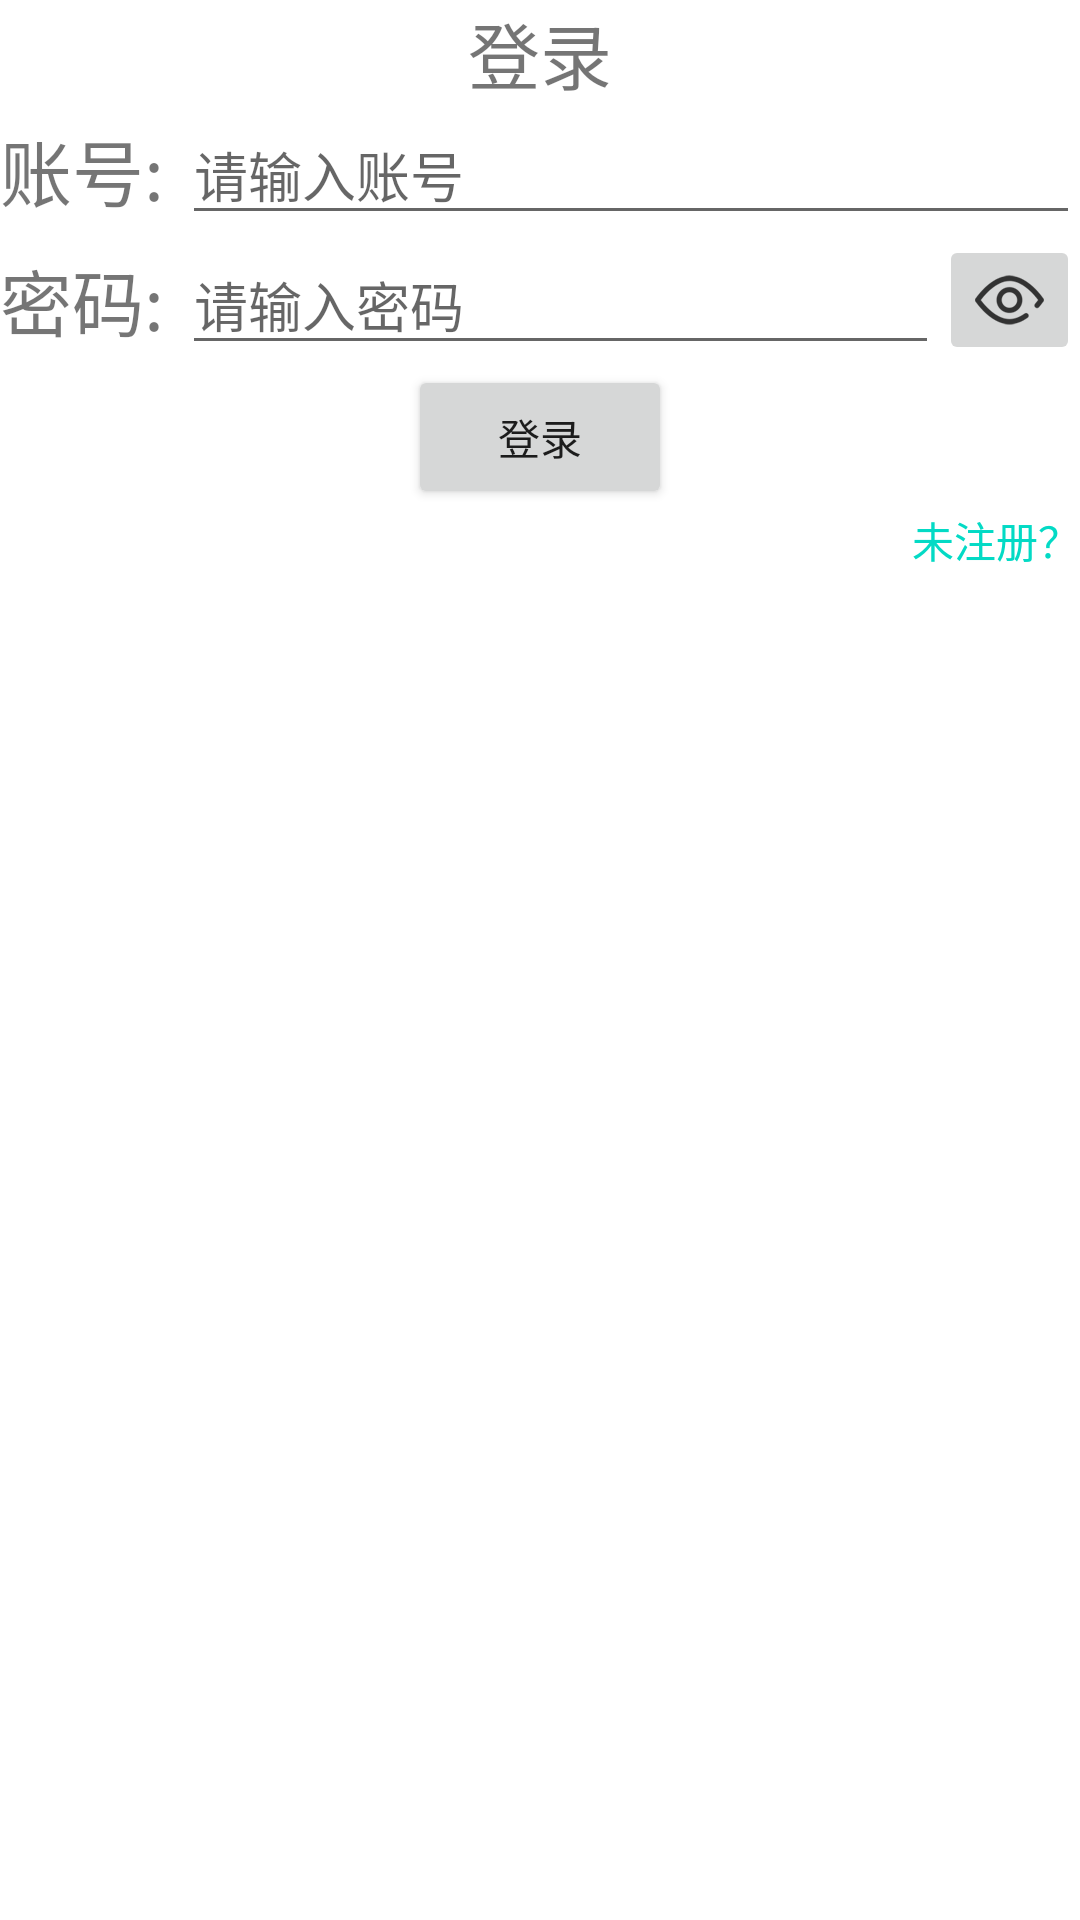

Locate icon controls on the screen. Image size 1080×1920, boxes as (x1, y1, x2, y2).
eye: (951, 253, 1068, 347)
